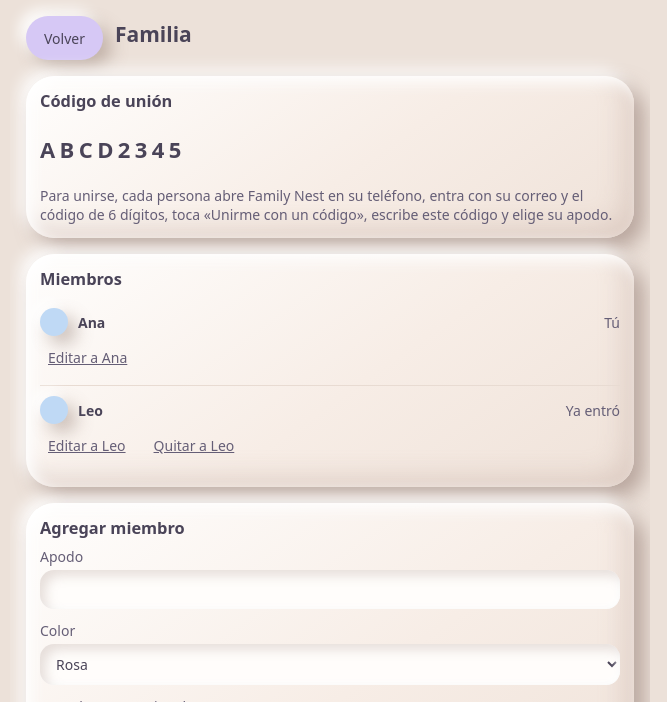
Test: quitar a quien ya entró avisa que su cuenta queda libre; Cancelar borra el error
Click the button "Quitar a Leo".
click(194, 446)  # box top-left (146, 428), bottom-right (242, 463)
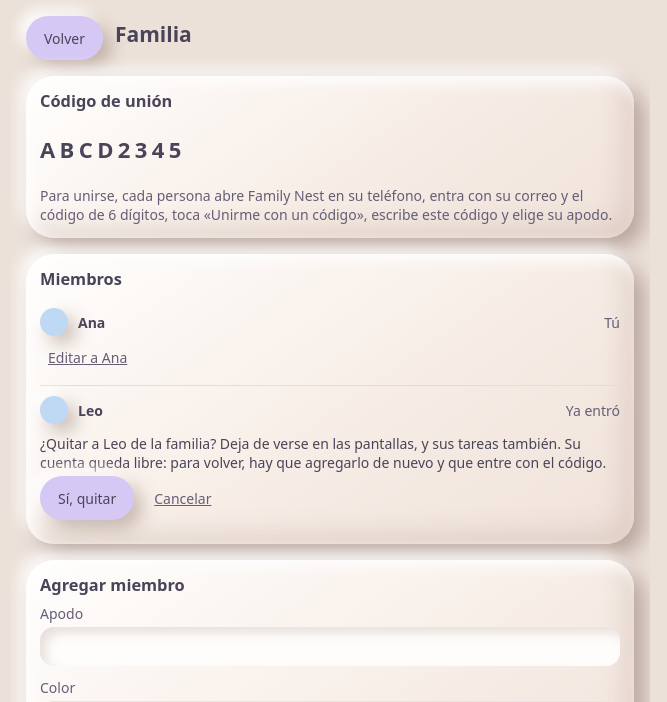
Expected: the list item with test id "fm-member" shows "Su cuenta queda libre", top-left (40, 434), bottom-right (606, 472)
Click the button "Cancelar".
click(183, 498)  # box top-left (146, 480), bottom-right (220, 516)
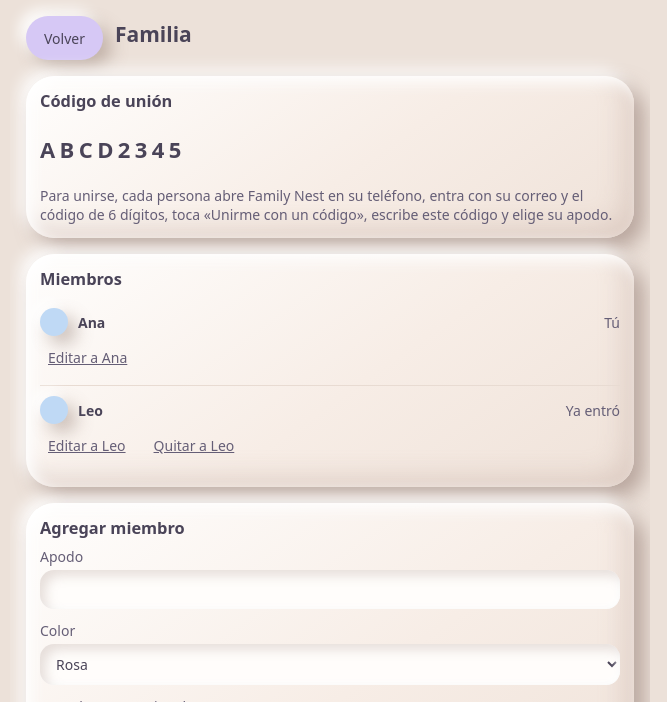
Click the button "Editar a Leo".
click(87, 446)  # box top-left (40, 428), bottom-right (134, 463)
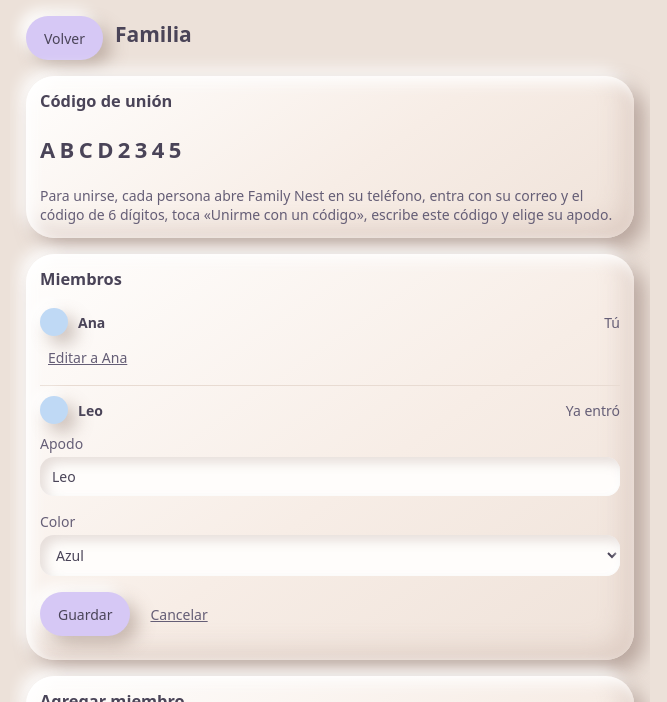
Clear the field labelled "Apodo" below "Leo" at x=330, y=476, box top-left (40, 457), bottom-right (620, 496)
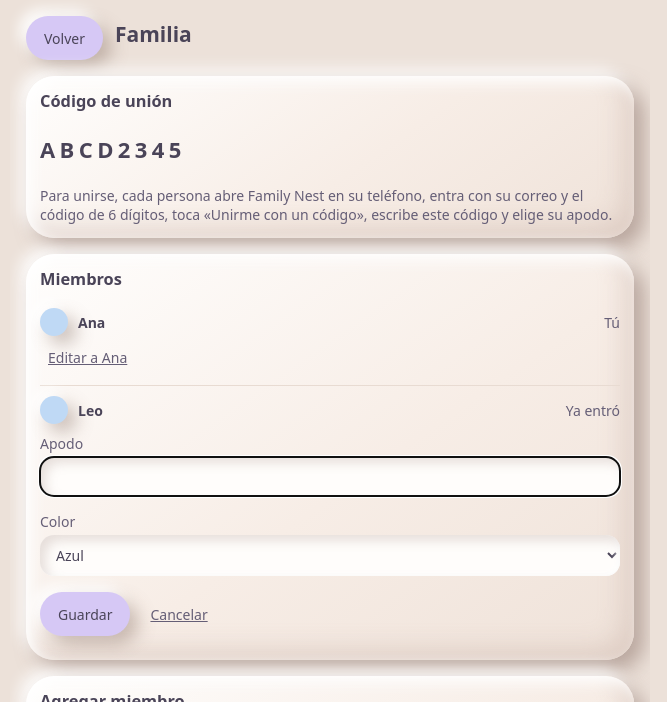
Click the button "Guardar".
click(85, 614)  # box top-left (40, 592), bottom-right (130, 636)
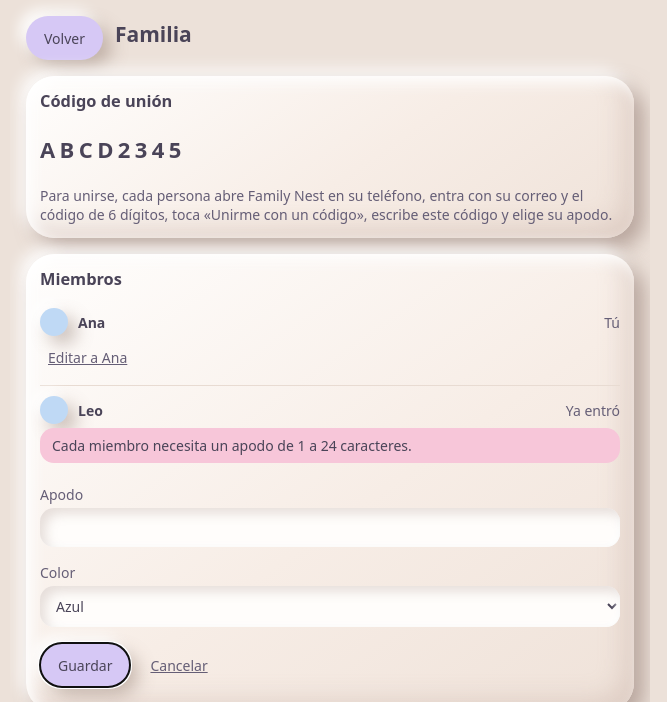
Expected: the message "Cada miembro necesita un apodo de 1 a 24 caracteres." is shown, top-left (40, 428), bottom-right (620, 463)
Click the button "Cancelar".
click(179, 665)  # box top-left (142, 648), bottom-right (216, 682)
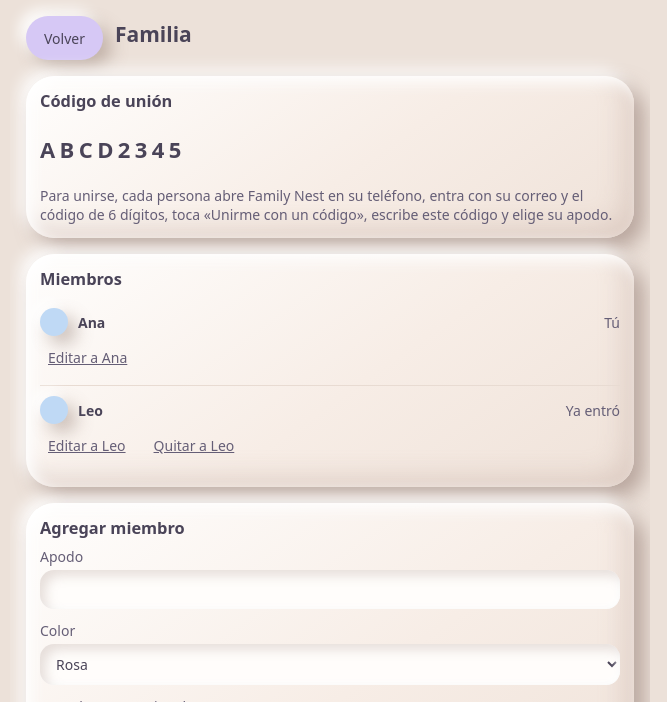
Expected: the message "Cada miembro necesita un apodo de 1 a 24 caracteres." is gone
